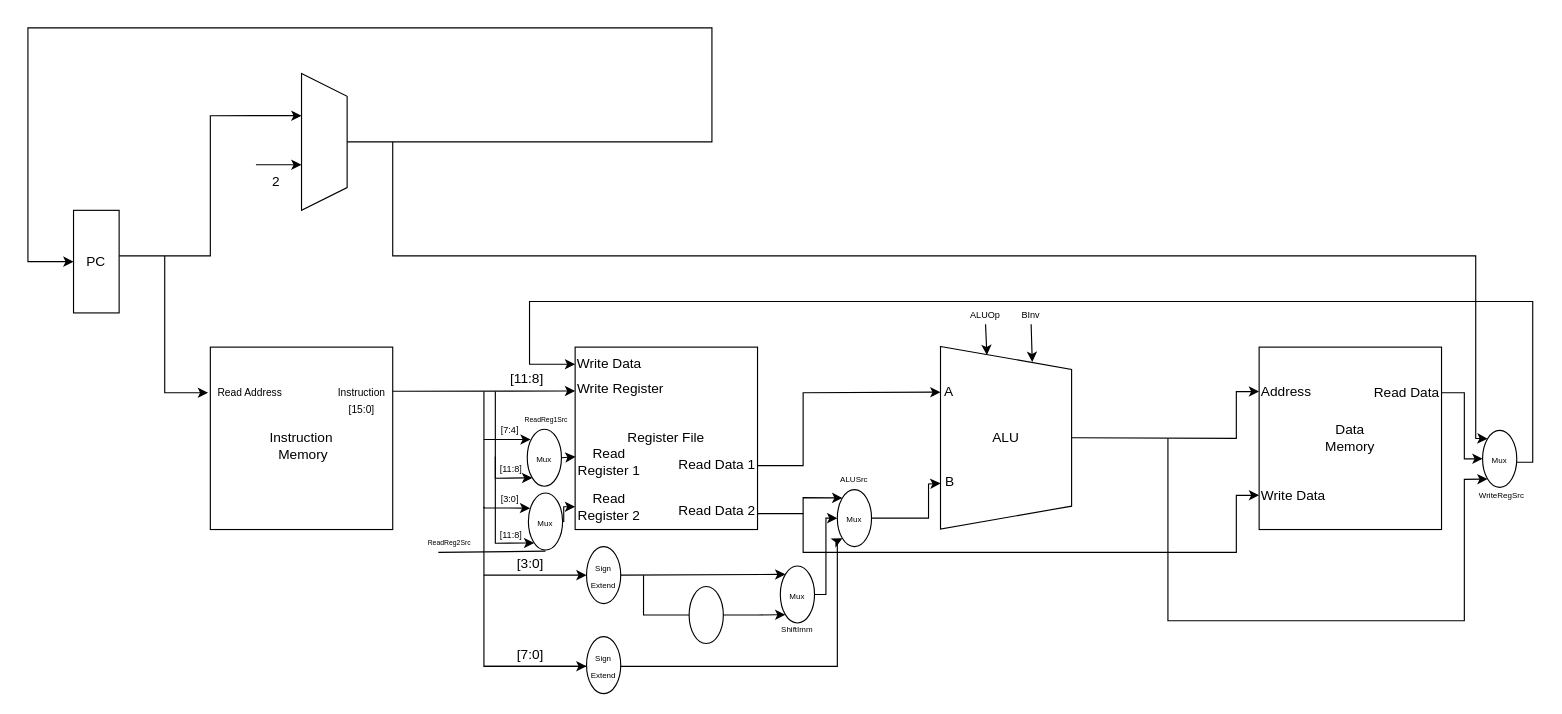
This 1562x714 diagram has some shape labels left out. The centre of each missing label's shape, as x and y in pixels:
"Add" belongs at [323,141].
"Shift 1" belongs at [705,614].
